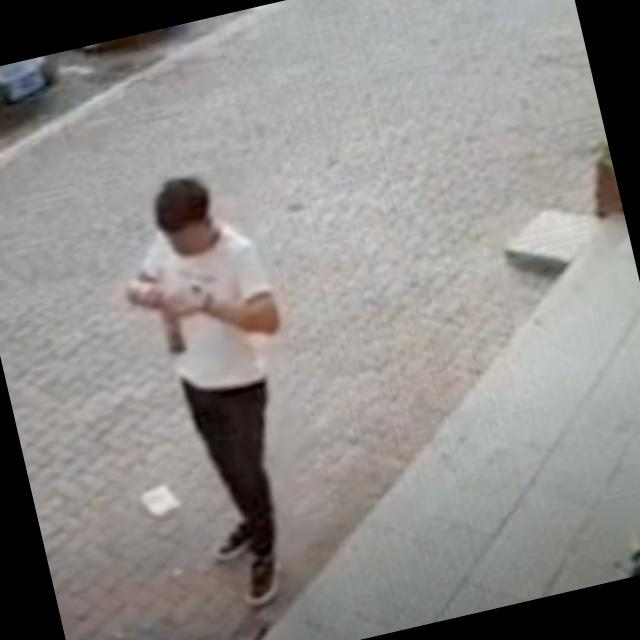person: (101, 161, 344, 621)
